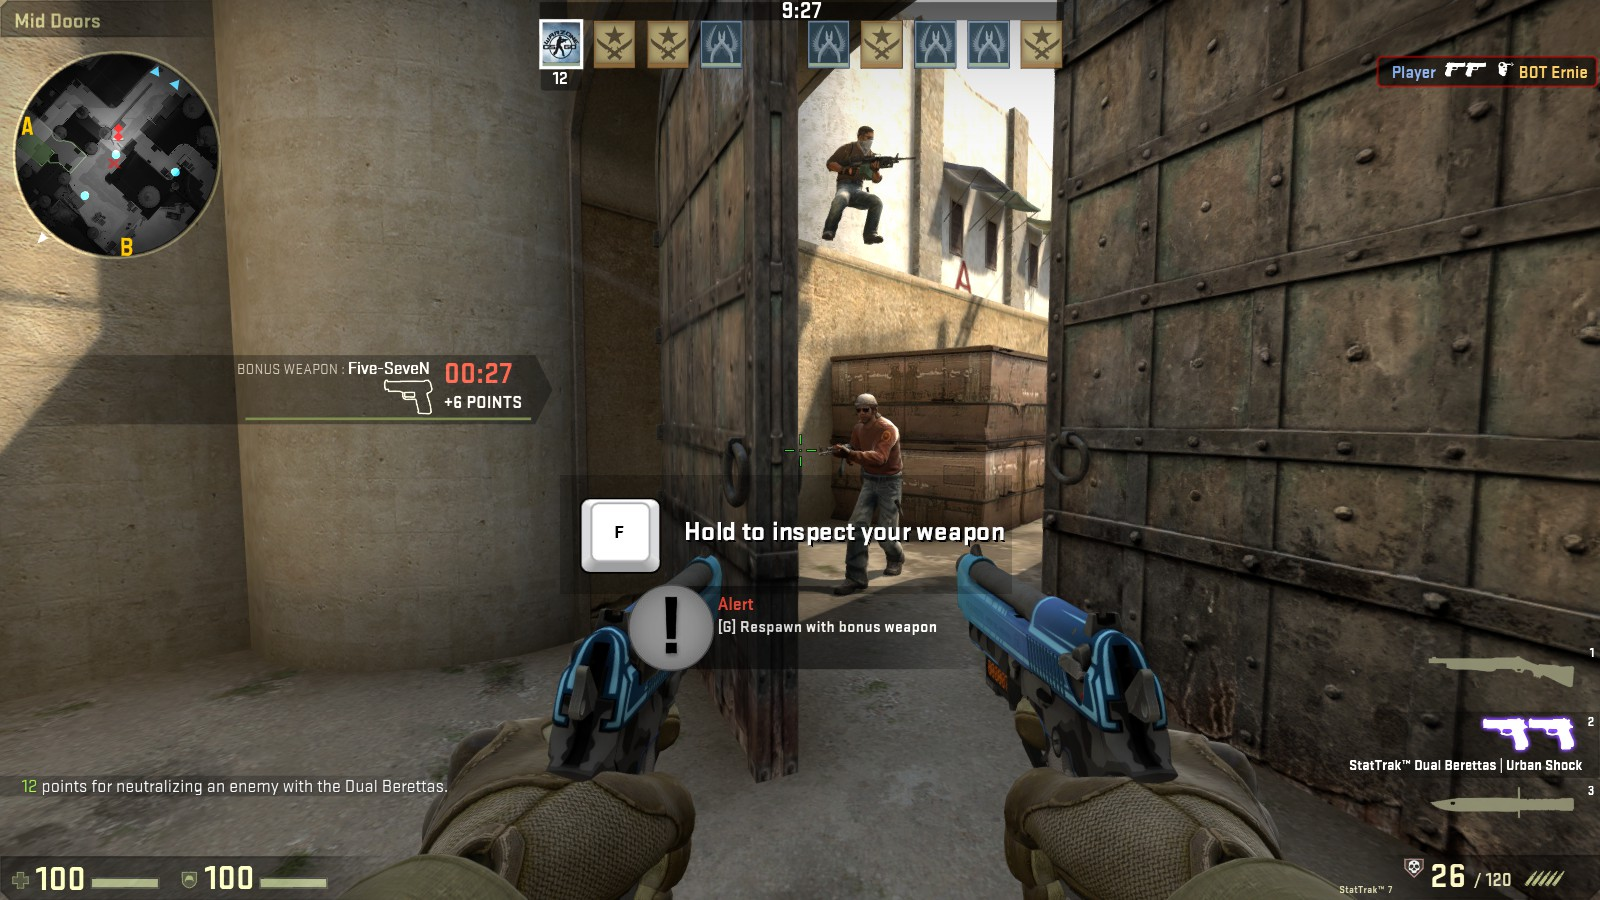t: (835, 390, 911, 595), (820, 127, 880, 252)
th: (845, 386, 890, 425), (851, 127, 878, 162)
